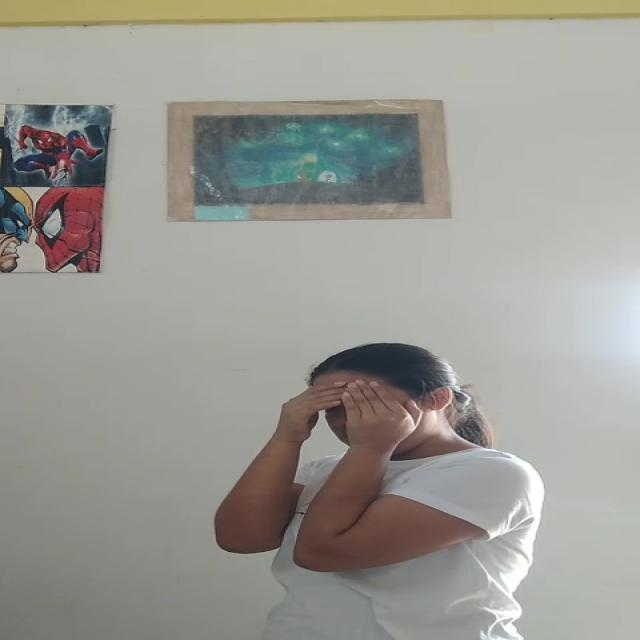7_mano_rostro: (286, 381, 406, 497)
